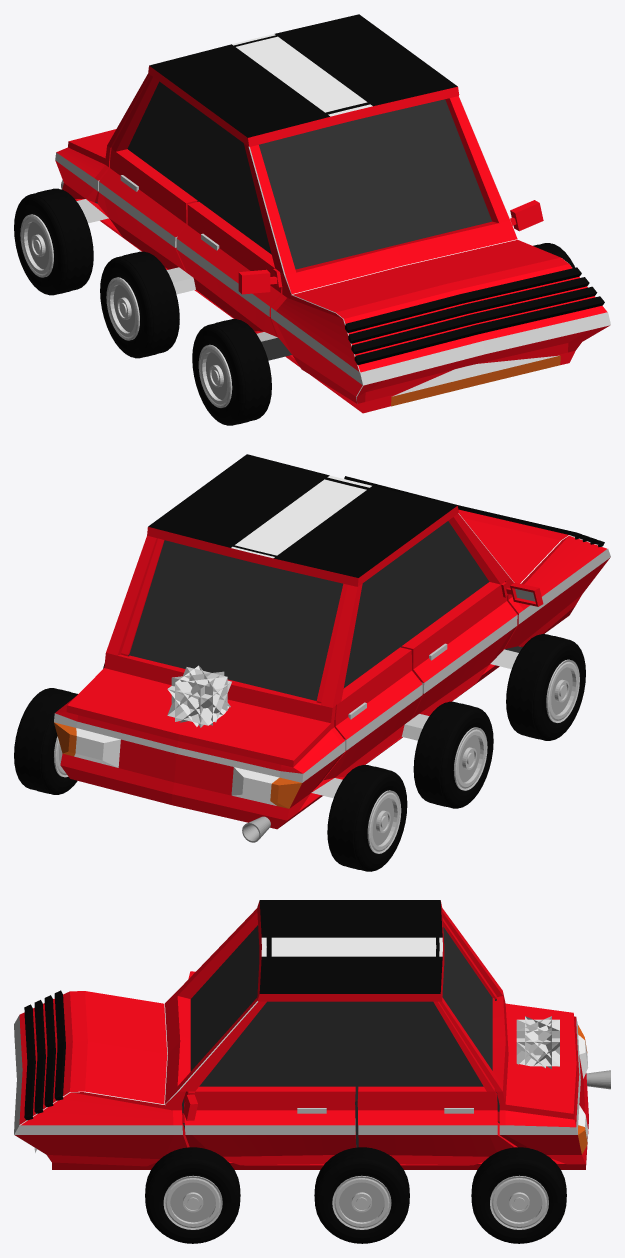
3 renders of one model, top to bottom at view 1: azimuth 30°, elevation 25°; view 2: azimuth 150°, elevation 25°; view 3: azimuth 270°, elevation 25°, orthographic. The views are drawn at different scales.
Parts seen in each view (by area): view 1: BODY38, WHEEL.004, WHEEL.005, WHEEL.001; view 2: BODY38, WHEEL.005, WHEEL.004, WHEEL.001, WHEEL.002, Cube; view 3: BODY38, WHEEL.006, WHEEL.002, WHEEL.003, Cube.
Boxes of the visible parts, left/top/right/bottom form: BODY38: left=55, top=14, right=610, bottom=413; WHEEL.004: left=14, top=188, right=93, bottom=295; WHEEL.005: left=100, top=251, right=179, bottom=358; WHEEL.001: left=192, top=319, right=271, bottom=425; BODY38: left=54, top=454, right=610, bottom=829; WHEEL.005: left=413, top=701, right=493, bottom=808; WHEEL.004: left=327, top=765, right=407, bottom=871; WHEEL.001: left=506, top=634, right=585, bottom=740; WHEEL.002: left=14, top=688, right=77, bottom=794; Cube: left=167, top=665, right=231, bottom=727; BODY38: left=14, top=900, right=588, bottom=1169; WHEEL.006: left=314, top=1147, right=409, bottom=1243; WHEEL.002: left=471, top=1147, right=566, bottom=1243; WHEEL.003: left=145, top=1147, right=240, bottom=1243; Cube: left=516, top=1016, right=559, bottom=1068.
Size of the model in its own units: 151 by 100 by 245.
